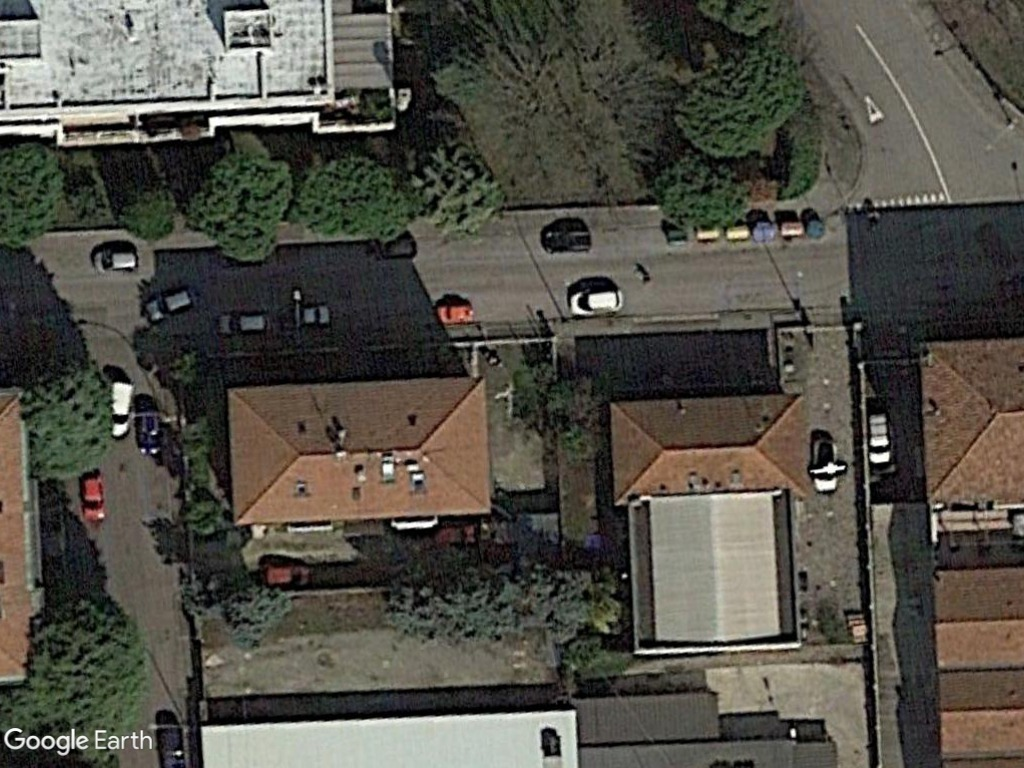car: (138, 285, 194, 326), (565, 285, 625, 320), (77, 469, 111, 528), (535, 225, 596, 256), (213, 309, 275, 339), (87, 246, 143, 275), (431, 299, 475, 326)
van: (864, 405, 895, 473)
